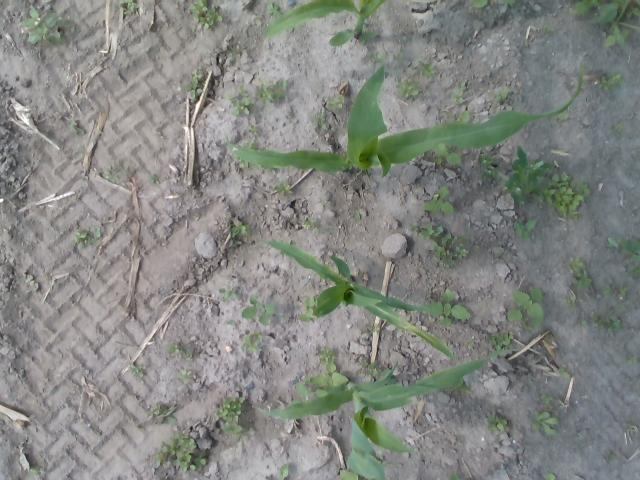Maize: (225, 46, 582, 180), (252, 351, 521, 480), (251, 240, 457, 360), (261, 0, 388, 47)
Weeds: (499, 145, 592, 220), (420, 224, 480, 268), (18, 5, 72, 47), (154, 431, 208, 473), (422, 288, 471, 325), (568, 0, 640, 24), (506, 288, 544, 331), (294, 372, 349, 396), (214, 396, 246, 436), (187, 0, 222, 31), (240, 294, 274, 325), (226, 84, 254, 116), (606, 236, 640, 262), (568, 257, 594, 291), (422, 186, 454, 213), (576, 314, 622, 332), (256, 80, 288, 104), (530, 410, 558, 436), (476, 152, 501, 181), (602, 24, 632, 47), (432, 143, 462, 165), (394, 76, 424, 98), (147, 404, 178, 425), (513, 218, 538, 242), (74, 227, 102, 248), (596, 71, 625, 91), (316, 346, 338, 372), (185, 70, 204, 100), (489, 331, 514, 352), (602, 282, 630, 300), (409, 59, 436, 77), (241, 331, 263, 353), (229, 220, 250, 241), (310, 108, 329, 131), (300, 296, 316, 322), (448, 377, 473, 393), (165, 343, 193, 357), (302, 216, 326, 232), (358, 358, 378, 377), (224, 45, 242, 66), (235, 156, 262, 170), (360, 24, 378, 45), (266, 464, 289, 480), (485, 414, 508, 430), (471, 0, 516, 8), (445, 109, 469, 123), (118, 0, 140, 15), (492, 86, 511, 103), (218, 286, 238, 302), (326, 95, 346, 110), (380, 367, 397, 384), (266, 1, 282, 18), (176, 368, 192, 384), (539, 394, 554, 410), (564, 295, 580, 310), (128, 362, 144, 377), (69, 121, 85, 135), (240, 138, 258, 150), (368, 50, 383, 64), (274, 182, 290, 194), (27, 466, 45, 476), (556, 110, 570, 122), (558, 367, 572, 378), (104, 172, 119, 182), (541, 24, 557, 33), (392, 50, 404, 61), (248, 123, 258, 136), (627, 355, 638, 366), (630, 265, 640, 276), (452, 92, 463, 102), (457, 80, 468, 90), (448, 471, 460, 480), (408, 223, 418, 232), (614, 123, 624, 132), (148, 174, 157, 184), (369, 324, 380, 332), (546, 472, 556, 480), (465, 340, 473, 349), (225, 320, 234, 326), (354, 214, 360, 220)
